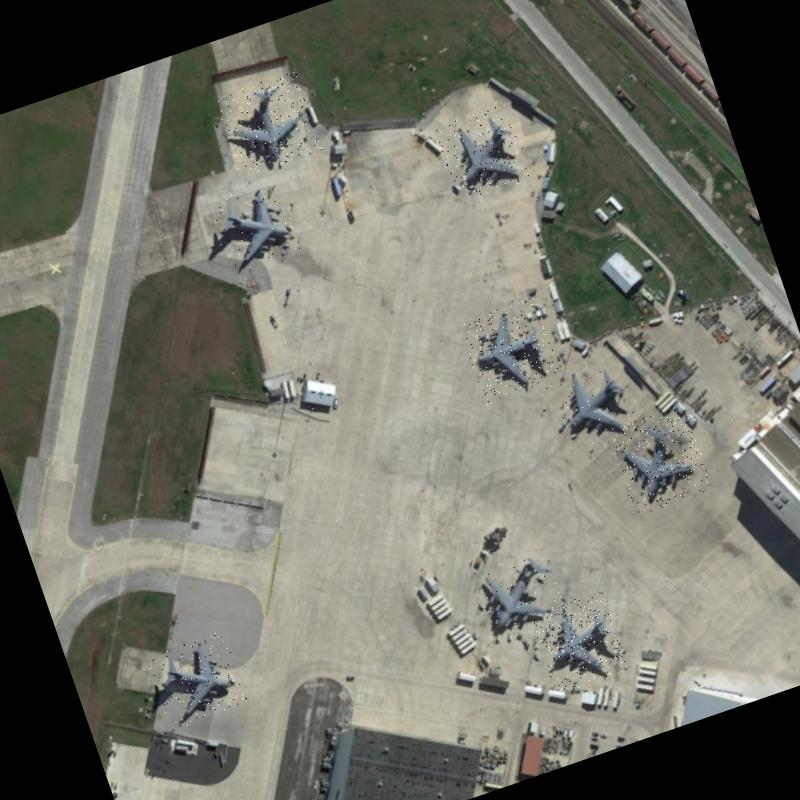A3: (606, 404, 714, 516), (213, 70, 324, 178), (458, 295, 565, 405), (468, 542, 574, 644), (144, 630, 249, 731), (529, 590, 629, 695), (542, 352, 642, 452), (434, 103, 533, 204), (206, 179, 302, 275)
